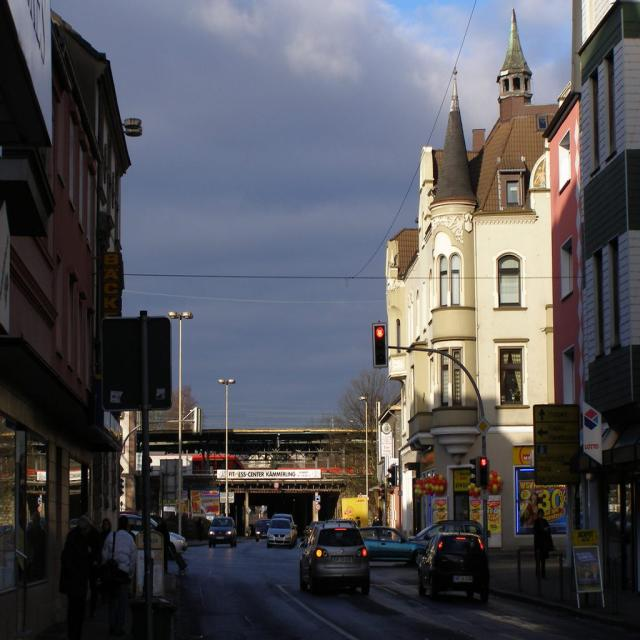car: (300, 525, 382, 600), (422, 534, 490, 596), (368, 527, 412, 560), (209, 512, 230, 541), (270, 516, 286, 547)
